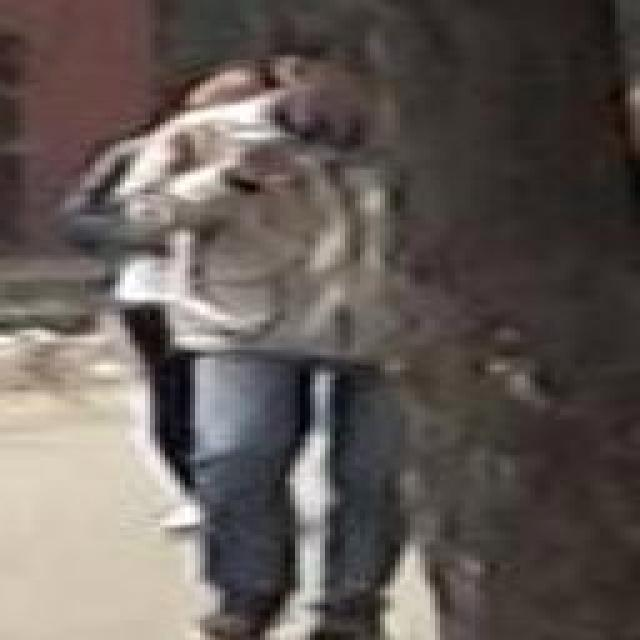adult: (116, 22, 421, 640)
